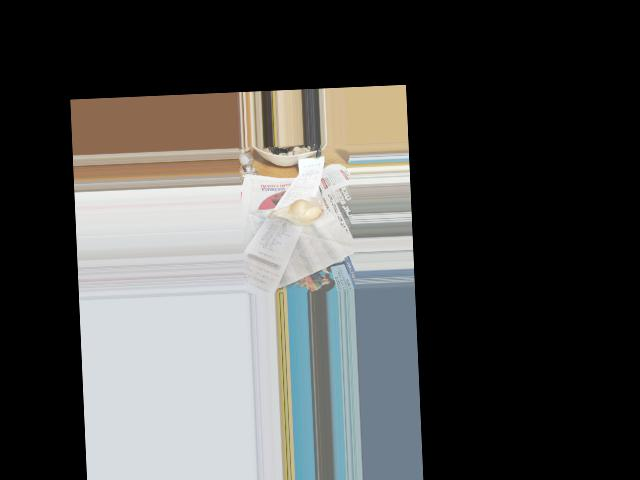onion: (277, 197, 324, 226)
